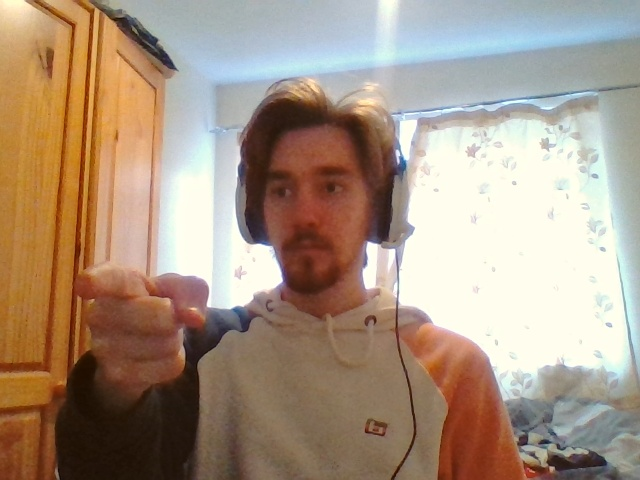you: (73, 262, 209, 382)
